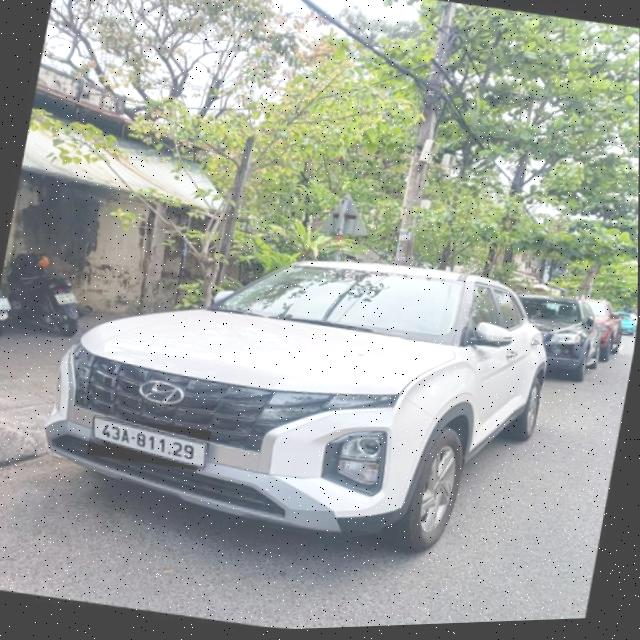car: (36, 215, 574, 579), (520, 285, 618, 388)
motorcycle: (0, 251, 91, 339)
plate: (80, 409, 211, 472)
